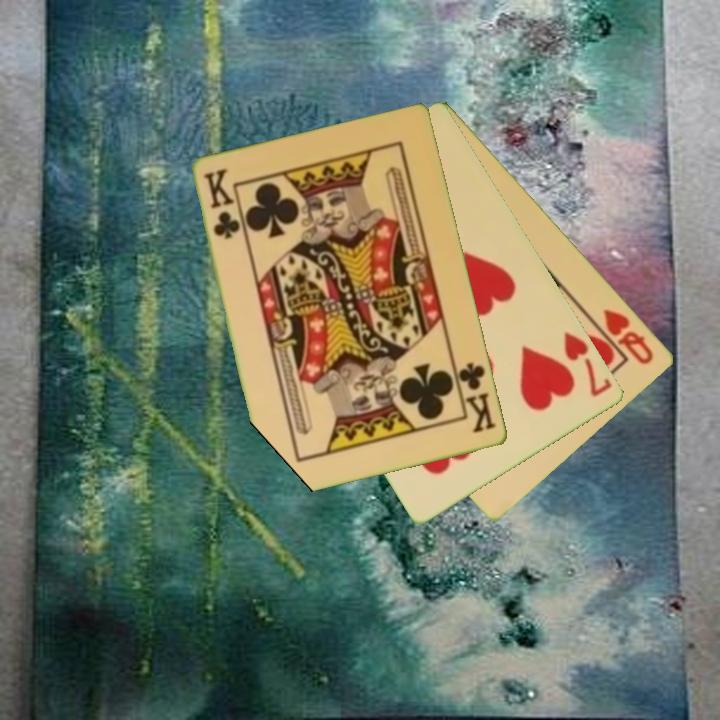7h: (560, 328, 616, 400)
Kc: (451, 358, 500, 436), (200, 166, 243, 243)
Qh: (600, 305, 657, 368)
